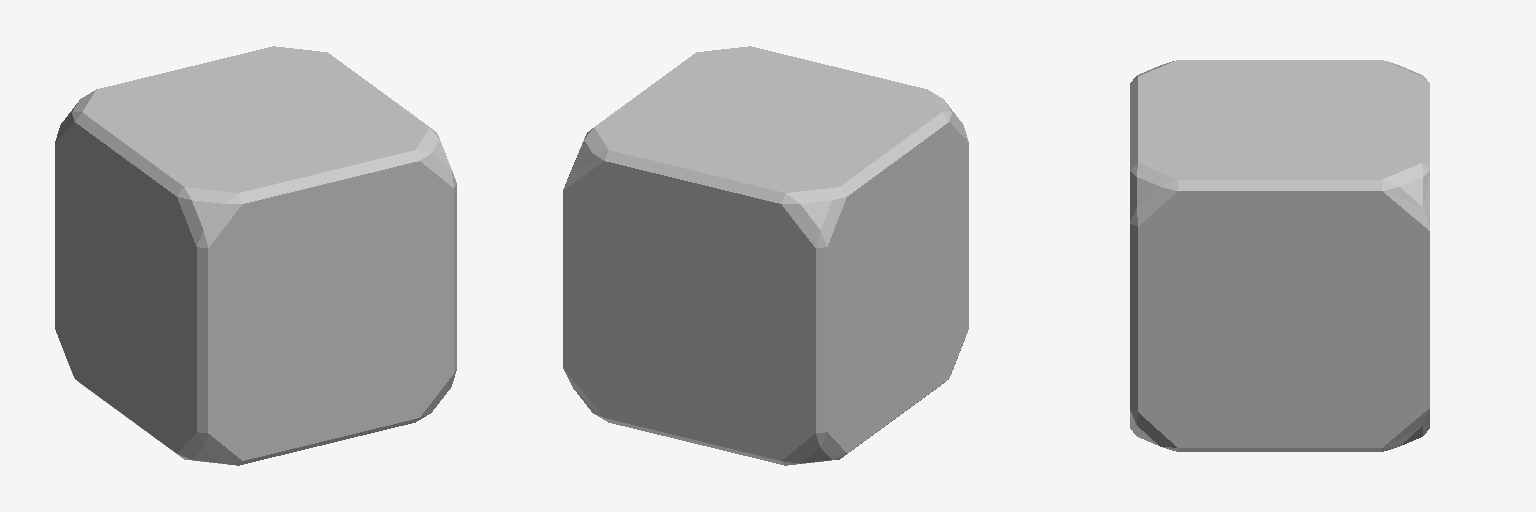
File: Die_C__1.obj
3 views of the same model, side by side, from view 1: azimuth 30°, elevation 25°; view 2: azimuth 150°, elevation 25°; view 3: azimuth 270°, elevation 25° (orthographic).
Visible parts, largest first — view 1: Cube1; view 2: Cube1; view 3: Cube1.
Part boxes in pixels (left/top/right/bottom): Cube1: left=55, top=46, right=456, bottom=465; Cube1: left=563, top=46, right=968, bottom=465; Cube1: left=1130, top=60, right=1429, bottom=451.
Size of the model in its own units: 2 by 2 by 2.